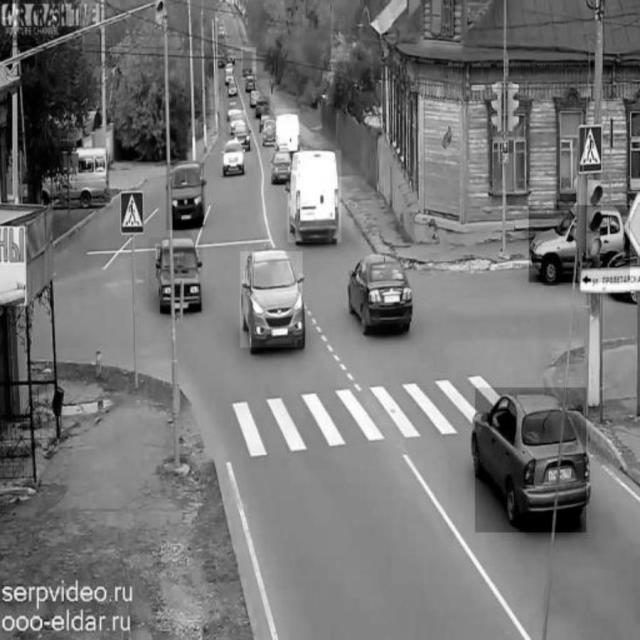vehicle: (475, 388, 586, 532), (529, 206, 630, 283), (240, 252, 302, 348), (350, 252, 411, 338), (288, 150, 342, 242), (149, 238, 203, 312), (39, 146, 110, 202), (167, 163, 204, 230), (270, 147, 295, 183), (276, 109, 301, 145), (222, 142, 246, 178), (263, 117, 280, 147), (242, 48, 257, 80), (253, 96, 270, 120), (230, 111, 246, 133), (224, 70, 236, 85)
